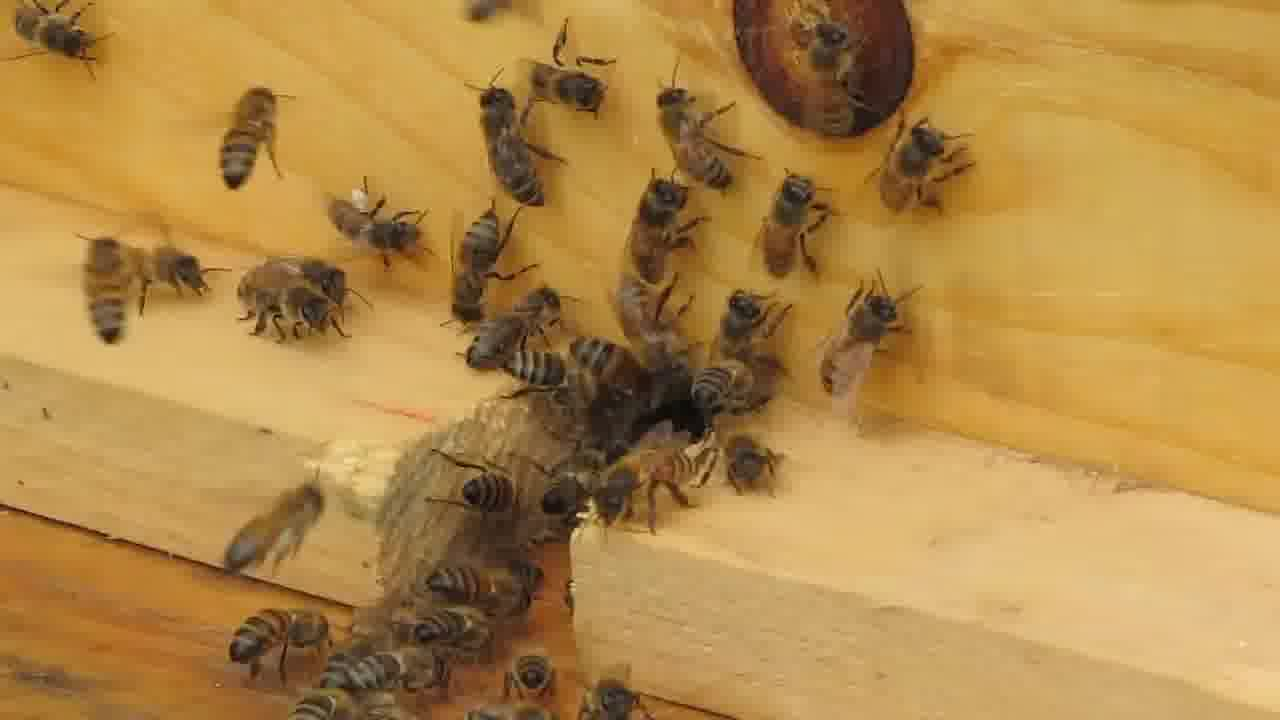pollen: (323, 177, 433, 269)
